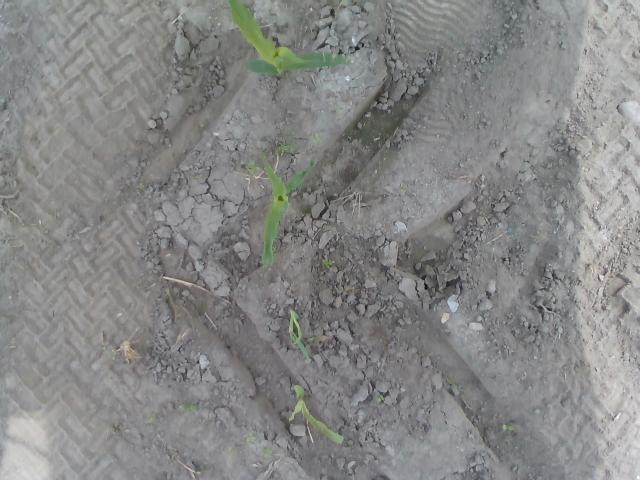Maize: (228, 0, 354, 82), (260, 148, 318, 274), (284, 382, 348, 448)
Weeds: (288, 305, 314, 363), (246, 159, 260, 176), (176, 403, 199, 413), (320, 256, 336, 268), (310, 133, 322, 146), (260, 447, 274, 458), (276, 142, 288, 153), (243, 432, 256, 442), (146, 412, 156, 424), (502, 422, 514, 432), (447, 374, 457, 385), (287, 130, 296, 140), (374, 394, 384, 402), (336, 106, 344, 113)
